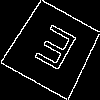E: (27, 23, 80, 80)
